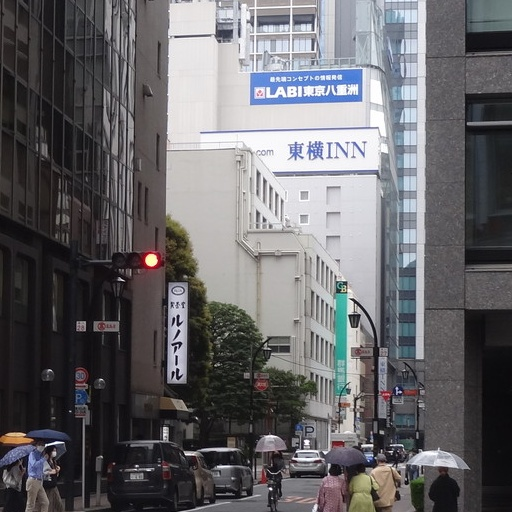Traffic_Signal_Red: (110, 244, 175, 272)
